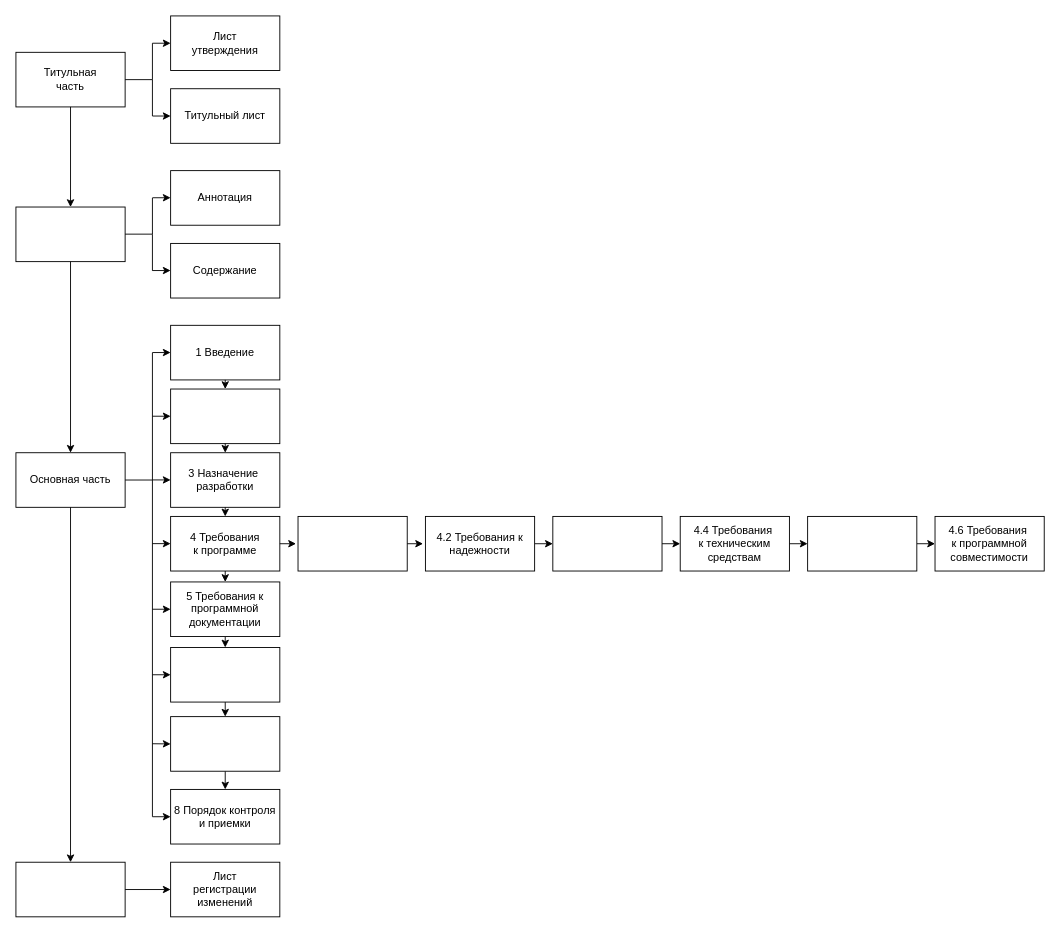
Image size: 1060x933. Some labels were removed from this diagram. Here are the shapes that lost their labels. From the top down, the centre of each, then its label:
[70,234]: Информацио нная часть
[225,416]: 2 Основание для разработки
[352,543]: 4.1 Требования к функциональным характеристикам
[607,543]: 4.3 Условия эксплуатации
[862,543]: 4.5 Требования к информационной совместимости
[225,674]: 6 Технико-экономические показатели
[225,743]: 7 Стадии и этапы работ
[70,889]: Часть регистрации изменений
